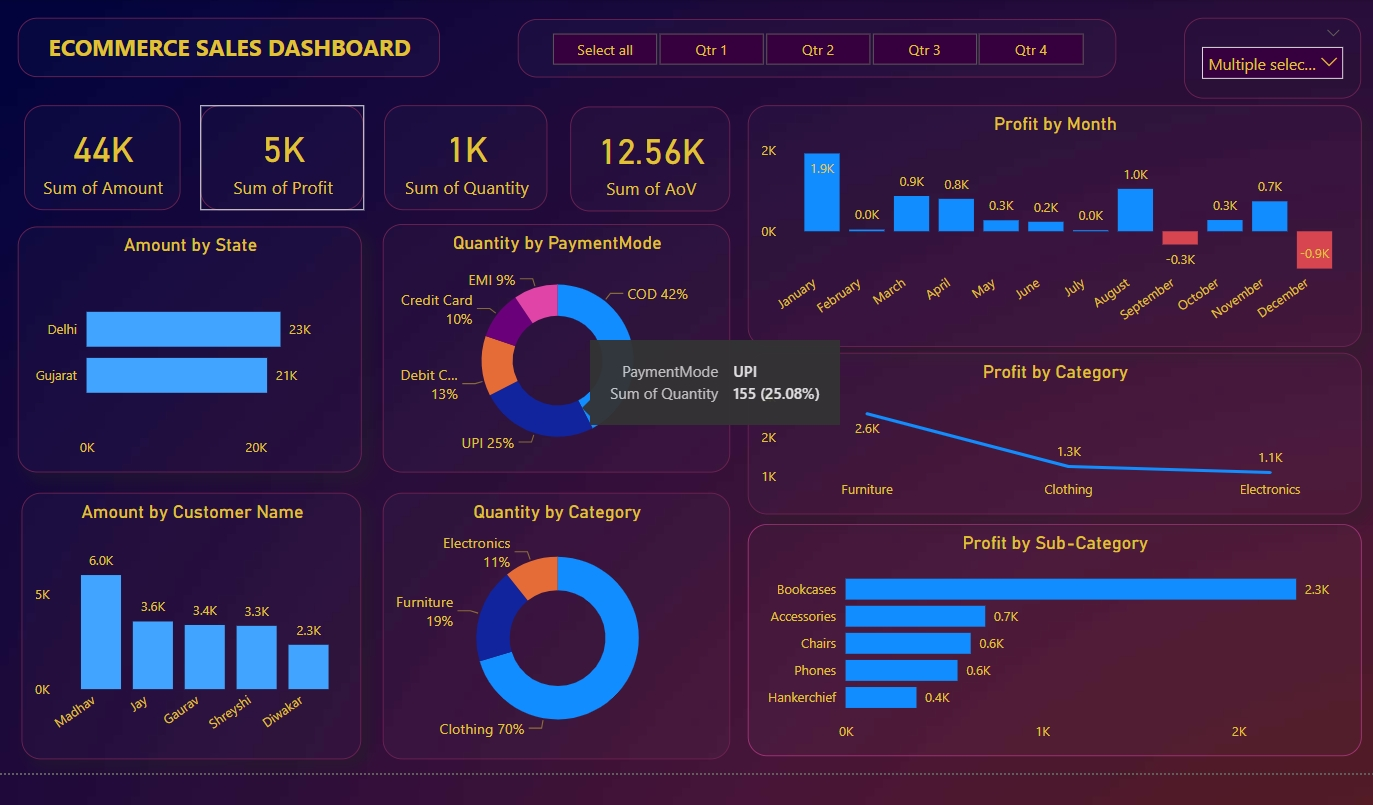

The dashboard page shown, as its layout file describes it:
{"tool":"powerbi","page":{"name":"Page 1","canvas":[1280,720],"ordinal":0},"visuals":[{"type":"textbox","box":[17.8,17.8,392.5,54.9],"z":0},{"type":"columnChart","title":"Profit by Month","fields":{"Category":["Orders.Order Date.Variation.Date Hierarchy.Month"],"Y":["Details.Profit"]},"box":[696.3,98.3,570.8,224.9],"z":1000},{"type":"barChart","title":"Profit by Sub-Category","fields":{"Category":["Details.Sub-Category"],"Y":["Details.Profit"]},"box":[696.3,488.3,570.8,215.9],"z":2000},{"type":"donutChart","title":"Quantity by Category","fields":{"Category":["Details.Category"],"Y":["Details.Quantity"]},"box":[357,459.3,323.3,247.7],"z":3000},{"type":"donutChart","title":"Quantity by PaymentMode","fields":{"Y":["Details.Quantity"],"Category":["Details.PaymentMode"]},"box":[357,209.3,323.3,231.4],"z":4000},{"type":"card","fields":{"Values":["Details.Amount"]},"box":[23.3,98.8,145.3,97.7],"z":5000},{"type":"card","fields":{"Values":["Details.Profit"]},"box":[187.2,98.8,152.3,97.7],"z":6000},{"type":"card","fields":{"Values":["Details.Quantity"]},"box":[358.1,98.8,152.3,97.7],"z":7000},{"type":"card","fields":{"Values":["Details.AoV"]},"box":[531.4,100,148.8,97.7],"z":8000},{"type":"barChart","title":"Amount by State","fields":{"Y":["Details.Amount"],"Category":["Orders.State"]},"box":[17.4,211.6,319.8,229.1],"z":9000},{"type":"columnChart","title":"Amount by Customer Name","fields":{"Category":["Orders.CustomerName"],"Y":["Details.Amount"]},"box":[20.9,459.3,316.3,247.7],"z":10000},{"type":"slicer","fields":{"Values":["Orders.Order Date.Variation.Date Hierarchy.Quarter"]},"box":[482.6,18.6,557,54.7],"z":11000},{"type":"slicer","fields":{"Values":["Orders.State"]},"box":[1101.9,17.8,164.7,75.5],"z":12000},{"type":"lineChart","title":"Profit by Category","fields":{"Y":["Details.Profit"],"Category":["Details.Category"]},"box":[696.3,328.9,570.8,150.3],"z":13000}]}

Visuals, with their boxes on the page's 1280x720 design canvas (x1, y1, x2, y2). These are canvas units, not pixel positions in the 1373x805 screenshot, which may show the page scaled, cropped or inside an application window:
textbox: Rect(18, 18, 410, 73)
"Profit by Month" columnChart: Rect(696, 98, 1267, 323)
"Profit by Sub-Category" barChart: Rect(696, 488, 1267, 704)
"Quantity by Category" donutChart: Rect(357, 459, 680, 707)
"Quantity by PaymentMode" donutChart: Rect(357, 209, 680, 441)
card - Details.Amount: Rect(23, 99, 169, 196)
card - Details.Profit: Rect(187, 99, 340, 196)
card - Details.Quantity: Rect(358, 99, 510, 196)
card - Details.AoV: Rect(531, 100, 680, 198)
"Amount by State" barChart: Rect(17, 212, 337, 441)
"Amount by Customer Name" columnChart: Rect(21, 459, 337, 707)
slicer - Orders.Order Date.Variation.Date Hierarchy.Quarter: Rect(483, 19, 1040, 73)
slicer - Orders.State: Rect(1102, 18, 1267, 93)
"Profit by Category" lineChart: Rect(696, 329, 1267, 479)
